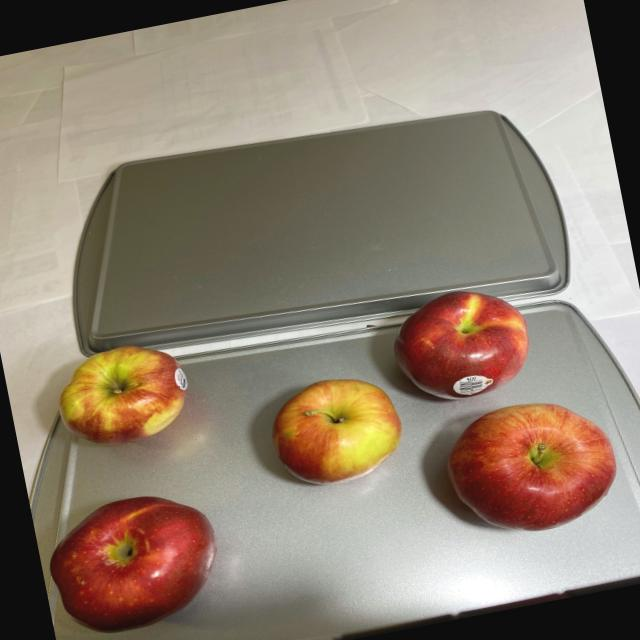apple: (245, 266, 628, 590), (33, 478, 235, 640), (48, 334, 206, 456)
